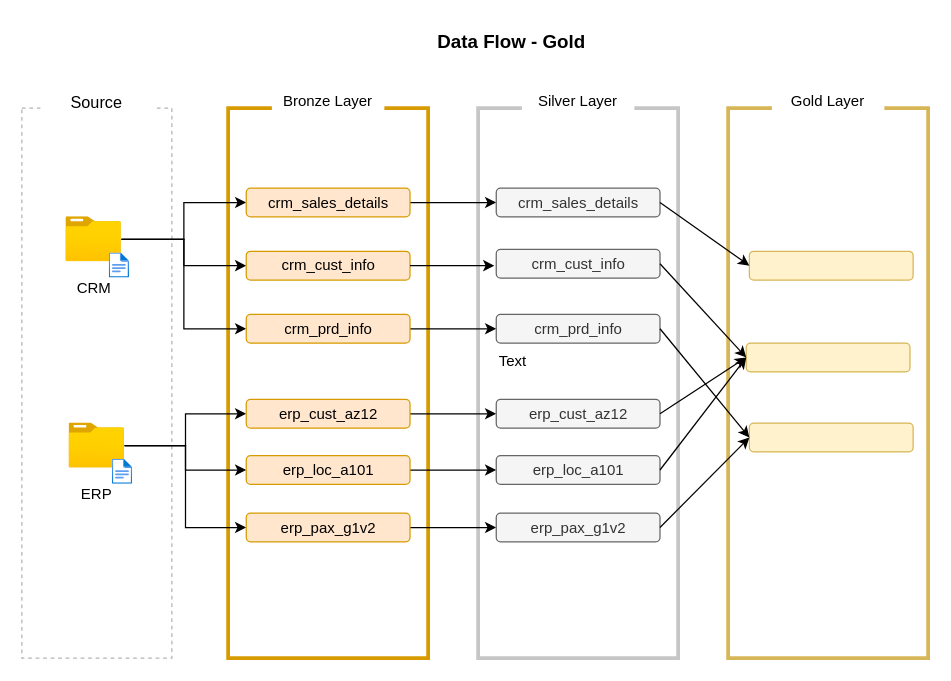
Image size: 951x681. Some labels were removed from this diagram. The shapes that lost their labels are listed below. From the top down, each one's centre as x and y in pixels, then its label:
At point (830, 265): "fact_sales".
At point (827, 357): "dim_customers".
At point (830, 437): "dim_products".
